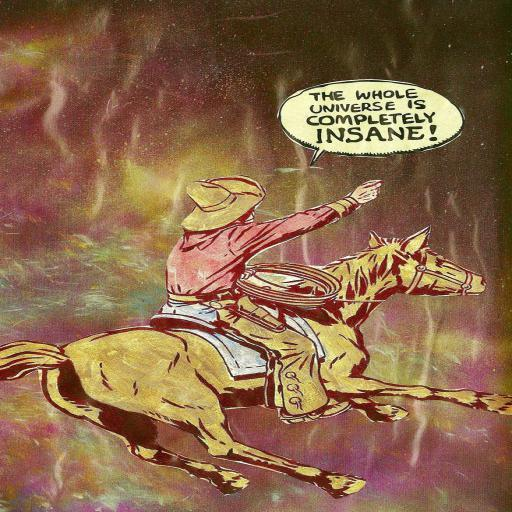horse: (0, 226, 512, 500)
